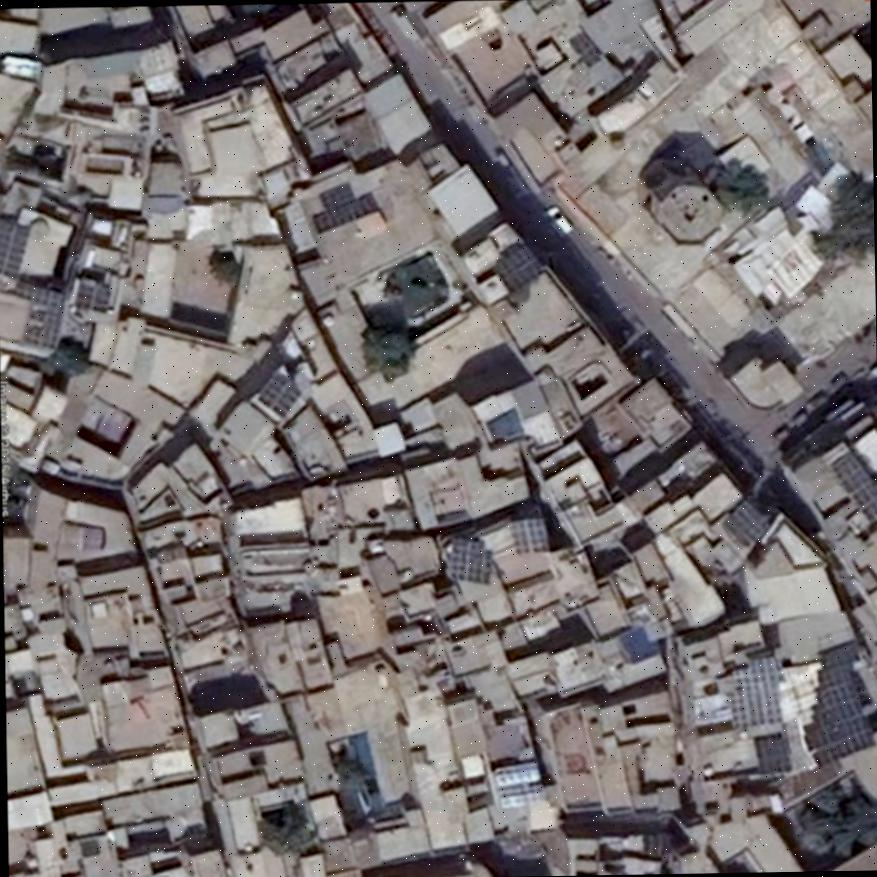Solarpanel: (785, 642, 875, 767), (731, 653, 782, 727), (831, 450, 877, 519), (23, 288, 62, 348), (495, 245, 540, 294), (724, 499, 769, 544), (256, 373, 300, 419), (0, 217, 30, 277), (450, 539, 485, 584), (509, 518, 546, 551), (755, 736, 788, 773)
